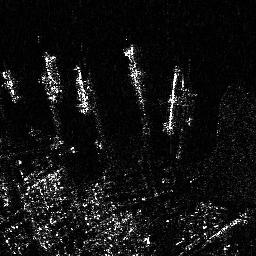ship: (71, 65, 92, 113), (44, 52, 64, 102)
